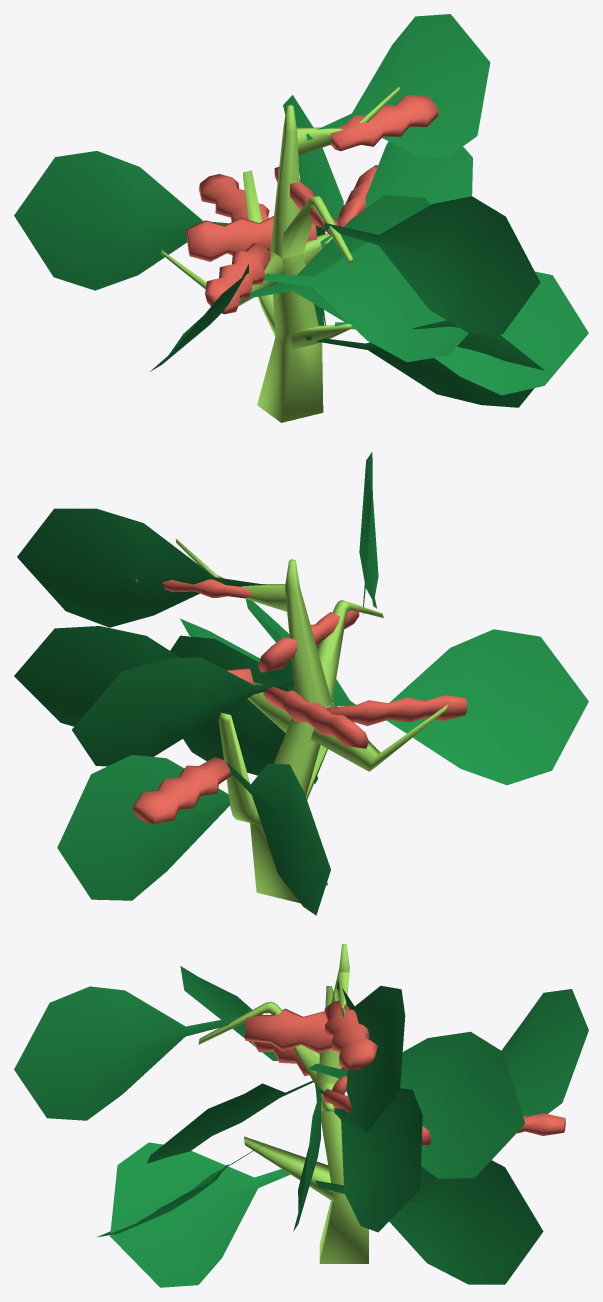
Rendered from tree_bean.glb.
The picture shows the model from 3 angles, top to bottom: view 1: azimuth 30°, elevation 25°; view 2: azimuth 150°, elevation 25°; view 3: azimuth 270°, elevation 25°; orthographic projection. The views are drawn at different scales.
Visible parts, largest first — view 1: leaf, fruit, body, branch; view 2: leaf, fruit, branch, body; view 3: leaf, fruit, body, branch.
Boxes of the visible parts, <box> form: leaf: <box>14,14,588,407</box>; fruit: <box>186,95,438,314</box>; body: <box>257,104,323,422</box>; branch: <box>161,87,399,349</box>; leaf: <box>14,452,588,915</box>; fruit: <box>132,575,467,823</box>; branch: <box>175,539,447,825</box>; body: <box>250,559,331,902</box>; leaf: <box>14,966,588,1287</box>; fruit: <box>244,1000,565,1145</box>; body: <box>315,944,368,1263</box>; branch: <box>198,972,349,1201</box>.
Size of the model in its own units: 0.2017 by 0.1524 by 0.2333.
